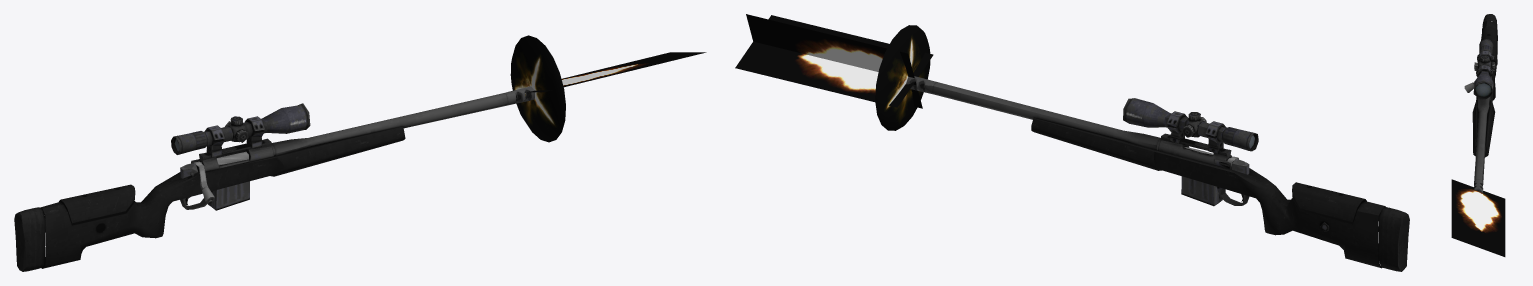
3 renders of one model, left to right at view 1: azimuth 30°, elevation 25°; view 2: azimuth 150°, elevation 25°; view 3: azimuth 270°, elevation 25°, orthographic. The views are drawn at different scales.
Parts seen in each view (by area): view 1: M24_Decimated.001, MuzzleFlash.002; view 2: M24_Decimated.001, MuzzleFlash.002; view 3: MuzzleFlash.002, M24_Decimated.001.
Boxes of the visible parts, left/top/right/bottom form: M24_Decimated.001: left=14, top=86, right=534, bottom=271; MuzzleFlash.002: left=510, top=35, right=706, bottom=142; M24_Decimated.001: left=906, top=76, right=1409, bottom=271; MuzzleFlash.002: left=735, top=14, right=933, bottom=130; MuzzleFlash.002: left=1451, top=179, right=1505, bottom=256; M24_Decimated.001: left=1464, top=14, right=1497, bottom=192.
Size of the model in its own units: 1.74 by 0.2871 by 0.2486.
2 materials, 2 textured.
